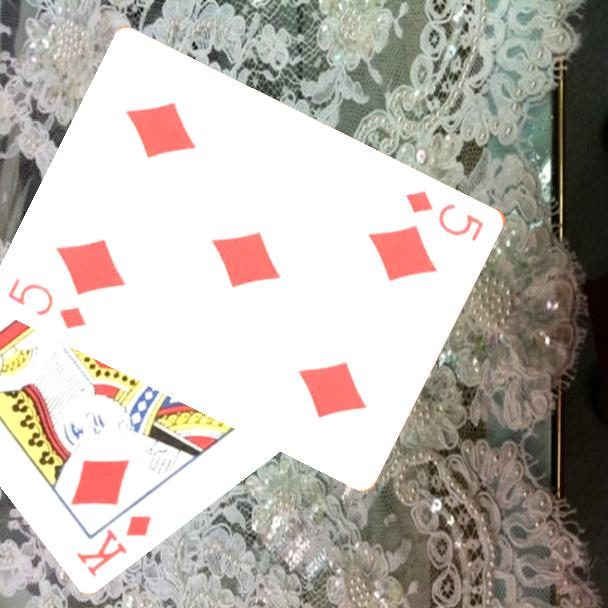d05: (402, 186, 488, 244), (5, 274, 90, 332)
d13: (73, 510, 155, 580)
